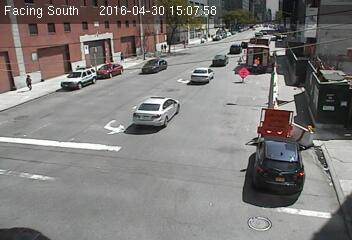neg: (324, 53, 341, 76), (201, 67, 217, 88), (264, 23, 274, 36), (328, 92, 338, 105), (218, 17, 227, 29), (256, 97, 265, 108)
pos: (15, 71, 36, 99), (251, 54, 262, 69), (156, 41, 165, 53), (160, 41, 168, 53)
